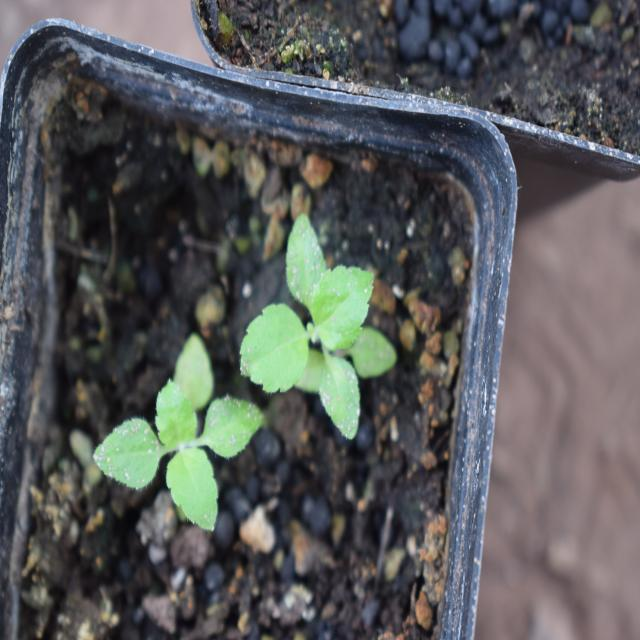billygoat_weed: (245, 203, 386, 450), (100, 375, 258, 526)
